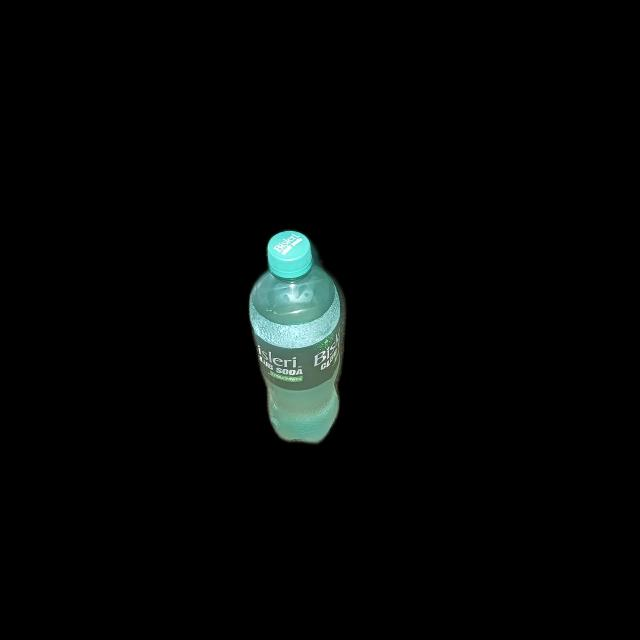Bisleri Club Soda - 750 ml: (242, 228, 356, 448)
